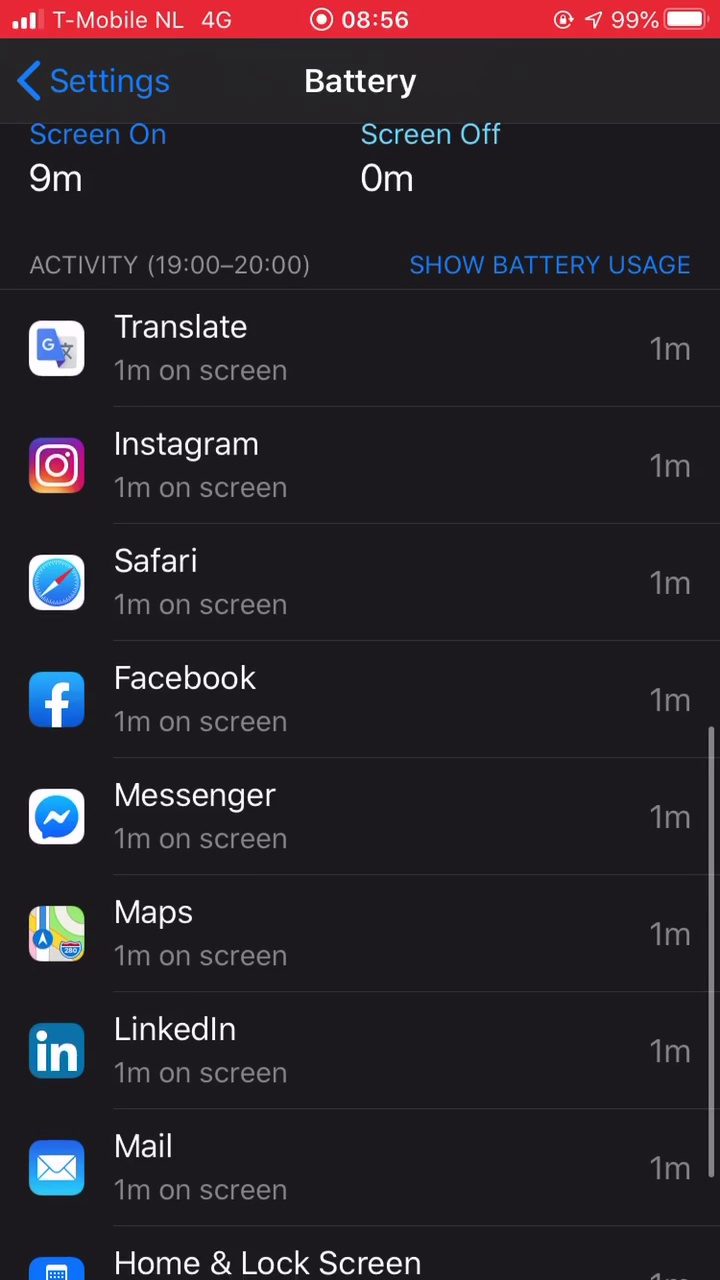activity: (9, 242, 320, 283)
app: (17, 303, 697, 391), (15, 417, 695, 505), (17, 534, 697, 622), (19, 660, 699, 748), (21, 762, 701, 850), (19, 895, 699, 983), (19, 1005, 699, 1093), (23, 1122, 703, 1210)
